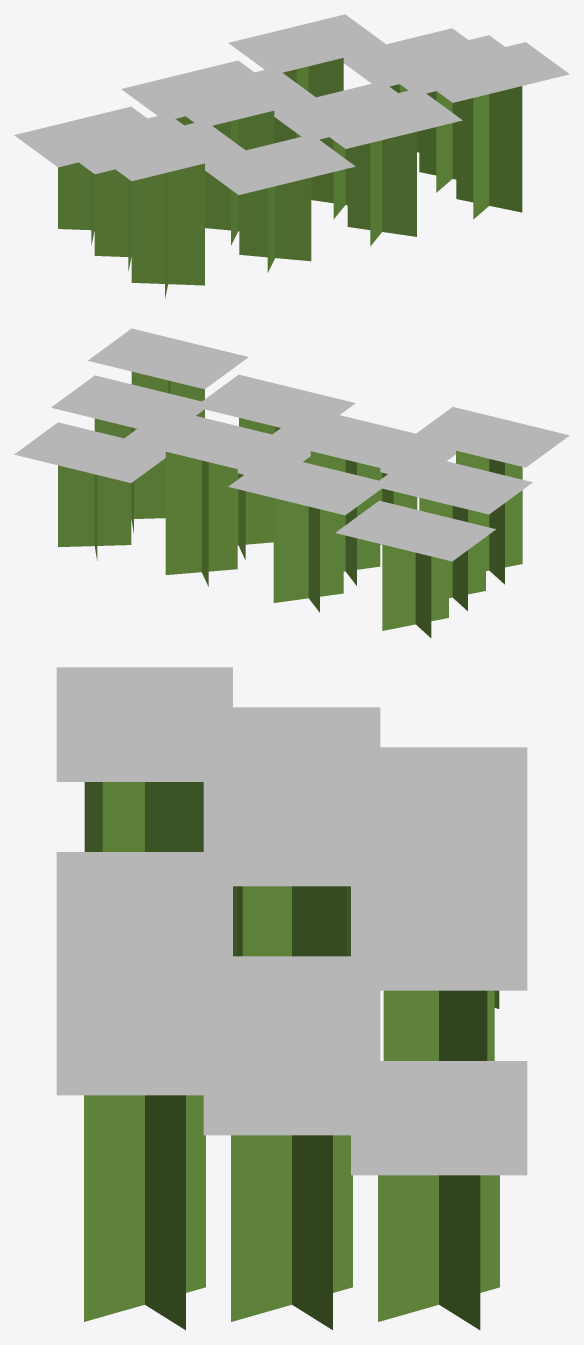
Rendered from pink_petals_bunch_planted.obj.
The picture shows the model from 3 angles, top to bottom: view 1: azimuth 30°, elevation 25°; view 2: azimuth 150°, elevation 25°; view 3: azimuth 270°, elevation 25°; orthographic projection. The views are drawn at different scales.
Visible parts, largest first — view 1: bunch; view 2: bunch; view 3: bunch.
Boxes of the visible parts, x1,y1,x2,y2 form: bunch: (14, 14, 569, 298); bunch: (14, 328, 569, 637); bunch: (56, 667, 527, 1330).
Bounding box in the file's own units: 1.08 × 0.3125 × 0.5.
